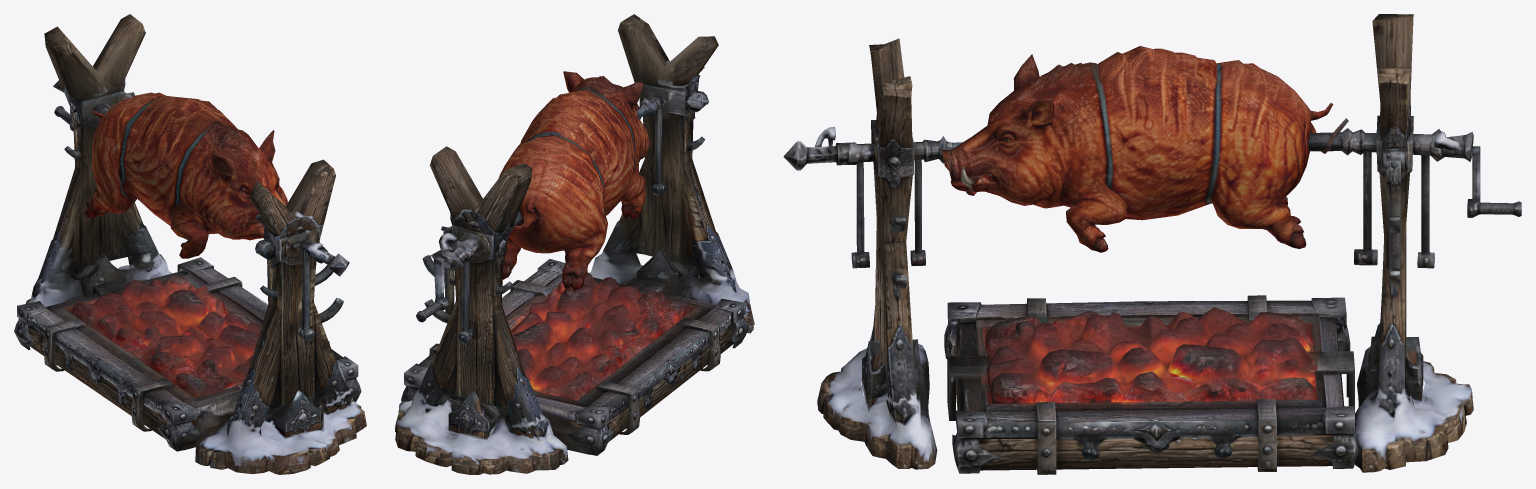
File: SM_Env_HeorotRoastingSpit.fbx
The picture shows the model from 3 angles, left to right: view 1: azimuth 30°, elevation 25°; view 2: azimuth 150°, elevation 25°; view 3: azimuth 270°, elevation 25°; orthographic projection. The views are drawn at different scales.
Parts seen in each view (by area): view 1: SM_Env_HeorotRoastingSpit; view 2: SM_Env_HeorotRoastingSpit; view 3: SM_Env_HeorotRoastingSpit.
Part boxes in pixels (x1,y1,x2,y2): SM_Env_HeorotRoastingSpit: (14,14,366,474); SM_Env_HeorotRoastingSpit: (395,14,754,474); SM_Env_HeorotRoastingSpit: (783,14,1521,474).
Size of the model in its own units: 22.1 by 53.17 by 30.
1 material, 1 textured.
